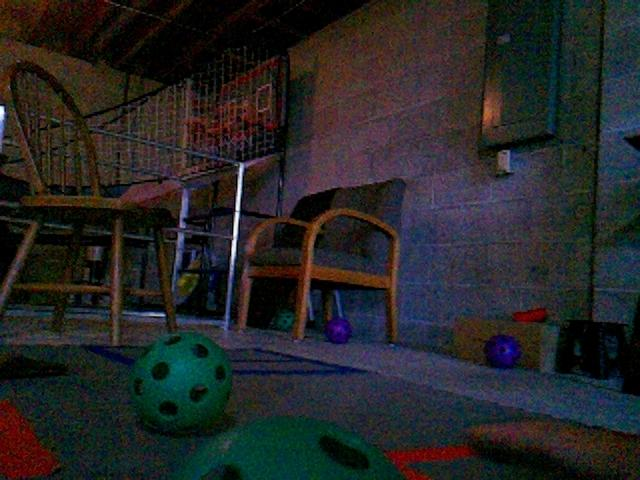Green: (175, 415, 411, 479), (128, 331, 234, 433), (271, 308, 296, 332)
Purple: (483, 333, 523, 369), (324, 317, 353, 344)
